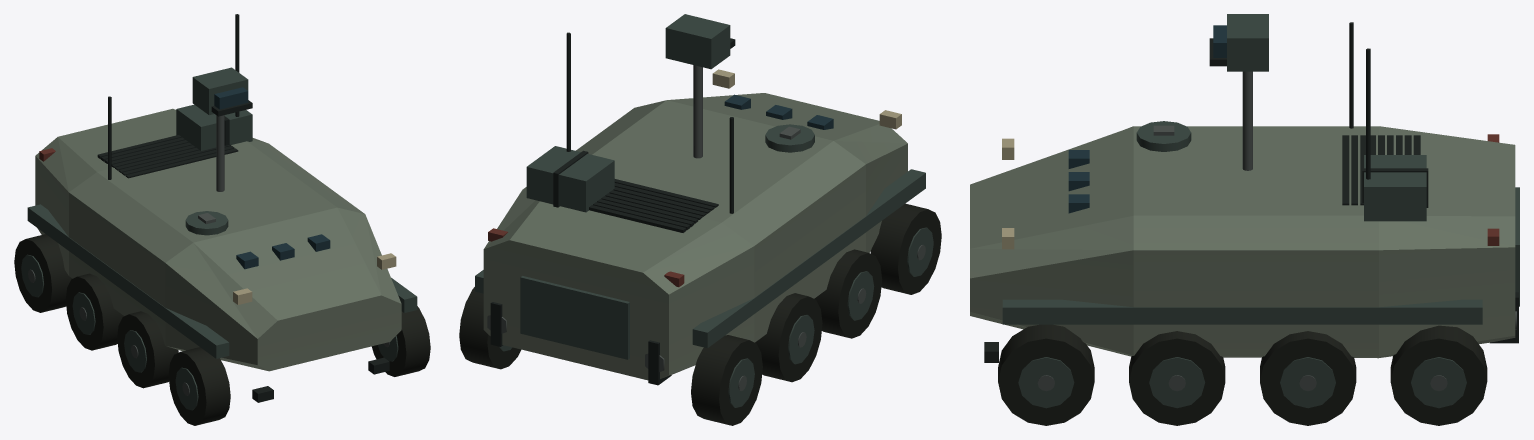
File: reconVehicle-lod.glb
3 renders of one model, left to right at view 1: azimuth 30°, elevation 25°; view 2: azimuth 150°, elevation 25°; view 3: azimuth 270°, elevation 25°, orthographic. The views are drawn at different scales.
Parts seen in each view (by area): view 1: equipment (×2); view 2: equipment (×2); view 3: equipment (×2).
Part boxes in pixels (left/top/right/bottom): equipment (×2): left=14, top=14, right=430, bottom=425; equipment (×2): left=459, top=14, right=941, bottom=425; equipment (×2): left=970, top=14, right=1519, bottom=425.
Bounding box in the file's own units: 3.19 × 3.65 × 5.24.
